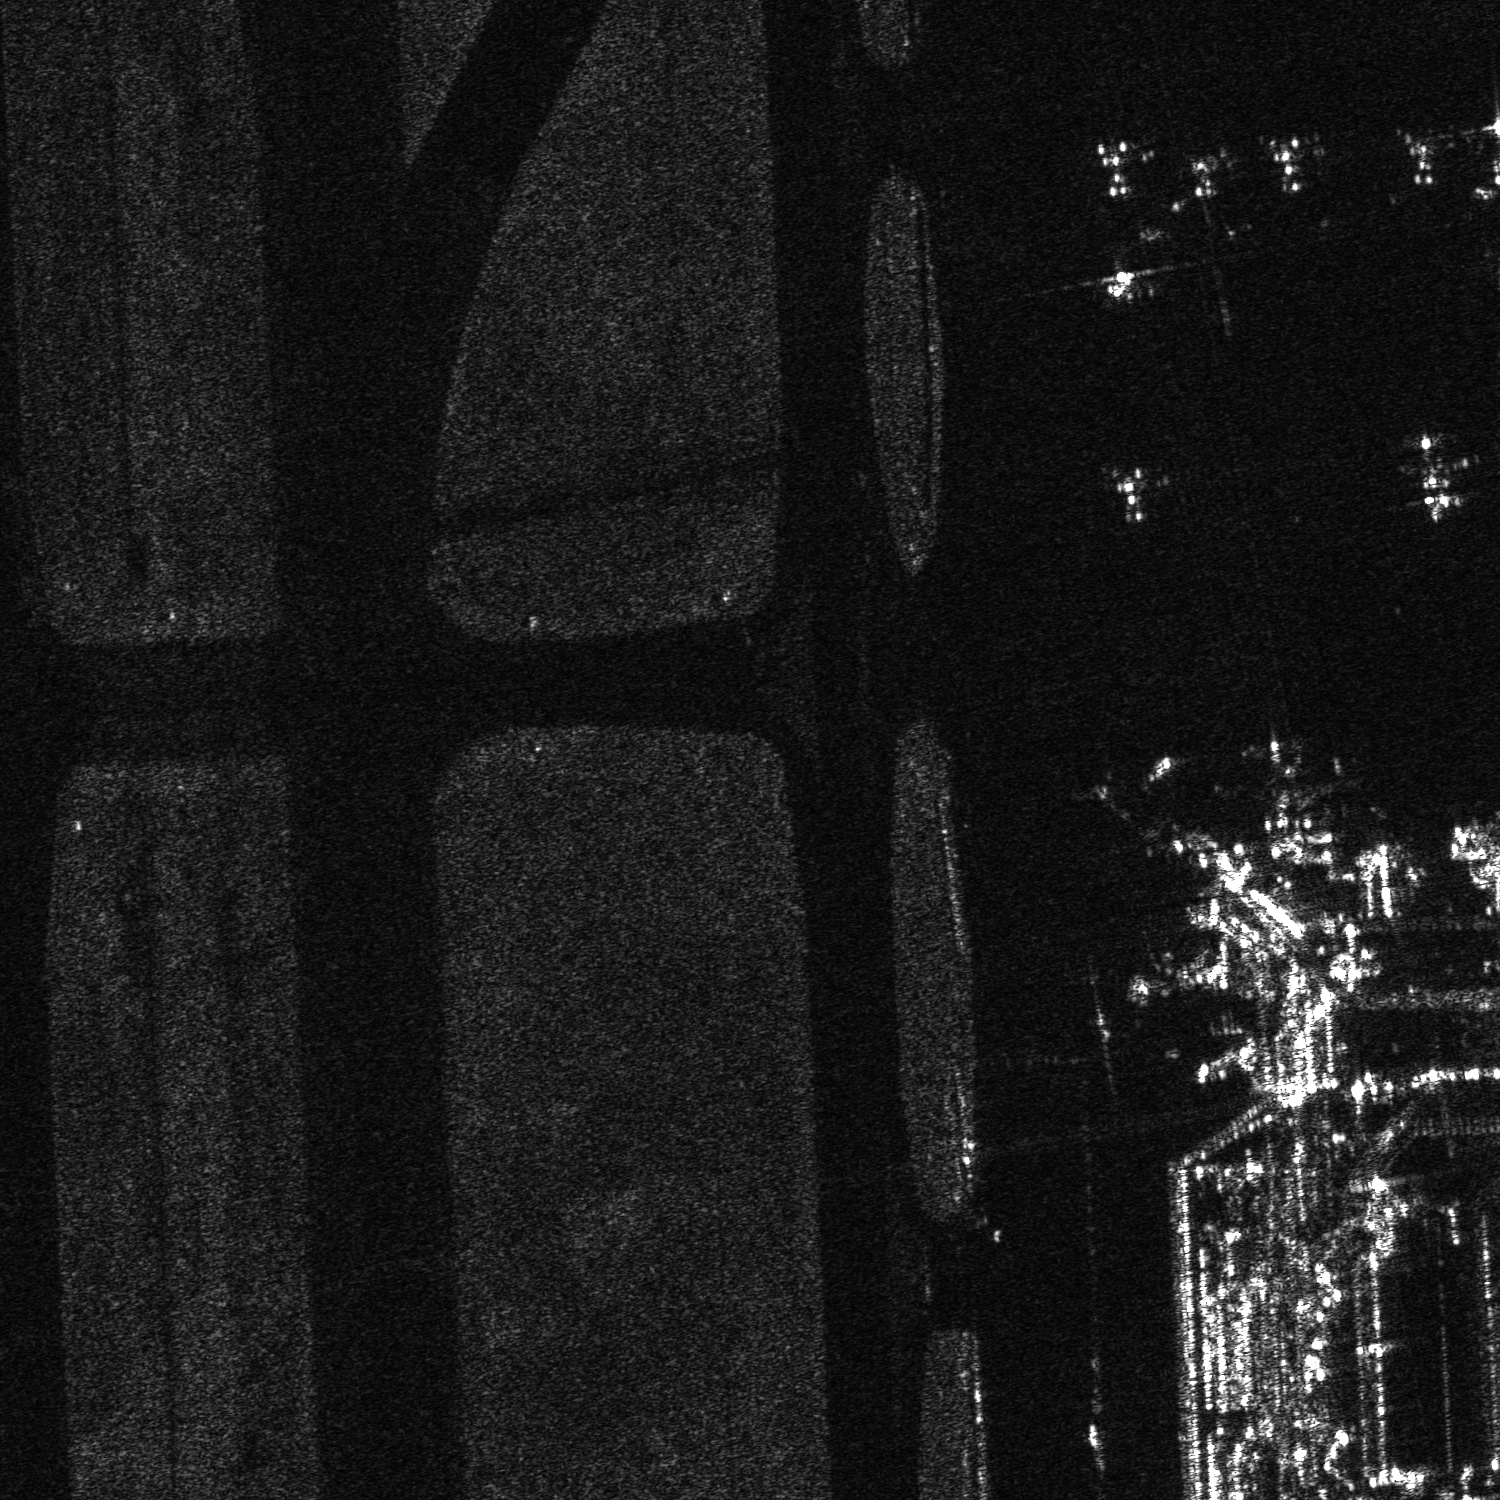ARJ21: (1098, 459, 1174, 530), (1091, 258, 1150, 310)
other: (1210, 736, 1364, 830), (1386, 431, 1484, 526), (1260, 124, 1326, 201), (1087, 132, 1152, 206), (1176, 140, 1238, 207), (1398, 122, 1459, 185)
